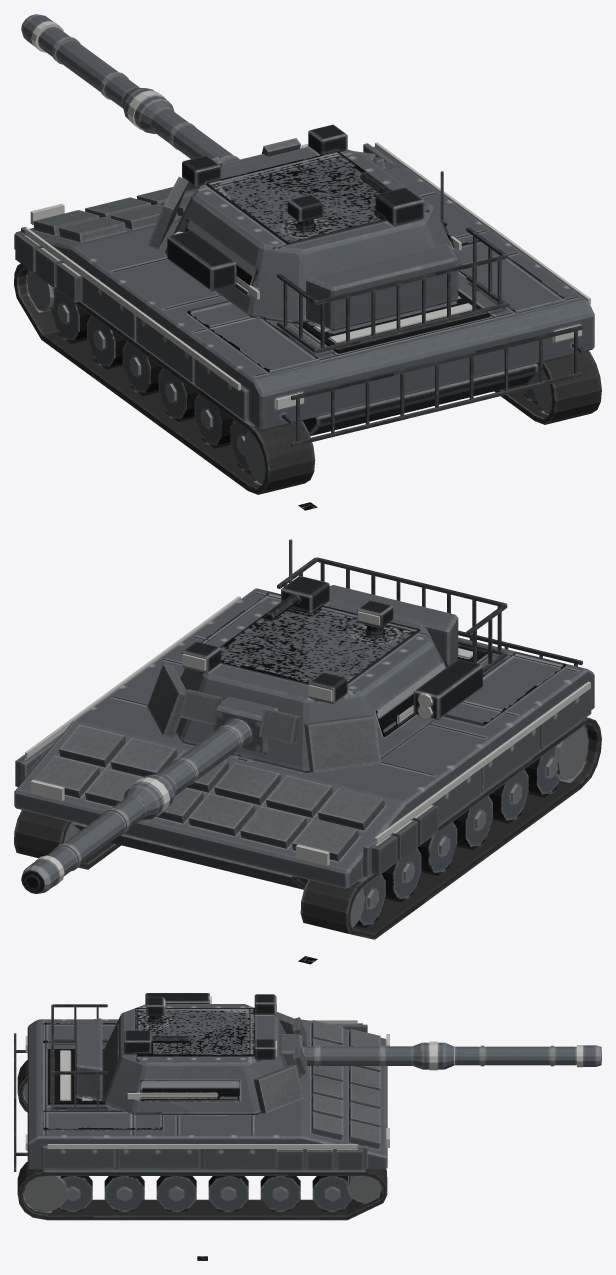
File: chs_ravager.fbx
3 renders of one model, top to bottom at view 1: azimuth 30°, elevation 25°; view 2: azimuth 150°, elevation 25°; view 3: azimuth 270°, elevation 25°, orthographic. The views are drawn at different scales.
Parts seen in each view (by area): view 1: base_bar, turret_bar, barrel_bar, base_glow_running_bar, barrel_glow_weapon_bar; view 2: base_bar, turret_bar, barrel_bar, base_glow_running_bar, base_glow_head_bar, turret_glow_running_bar, barrel_glow_weapon_bar; view 3: base_bar, turret_bar, barrel_bar, base_glow_running_bar, turret_glow_running_bar, barrel_glow_weapon_bar.
Part boxes in pixels (box(x1,y1,x2,y2)): base_bar: box(14, 143, 601, 494); turret_bar: box(147, 124, 507, 353); barrel_bar: box(21, 14, 267, 167); base_glow_running_bar: box(25, 142, 590, 409); barrel_glow_weapon_bar: box(31, 21, 167, 129); base_bar: box(14, 588, 601, 939); turret_bar: box(147, 539, 507, 772); barrel_bar: box(21, 696, 278, 893); base_glow_running_bar: box(25, 596, 590, 844); base_glow_head_bar: box(30, 780, 329, 865); turret_glow_running_bar: box(182, 611, 413, 722); barrel_glow_weapon_bar: box(36, 777, 169, 886); base_bar: box(14, 1019, 387, 1220); turret_bar: box(51, 993, 306, 1114); barrel_bar: box(281, 1034, 601, 1077); base_glow_running_bar: box(25, 1020, 357, 1150); turret_glow_running_bar: box(127, 996, 276, 1099); barrel_glow_weapon_bar: box(429, 1041, 582, 1070).
Bounding box in the file's own units: 567 × 535 × 1094.
Materials: 2 (2 with a texture image).
